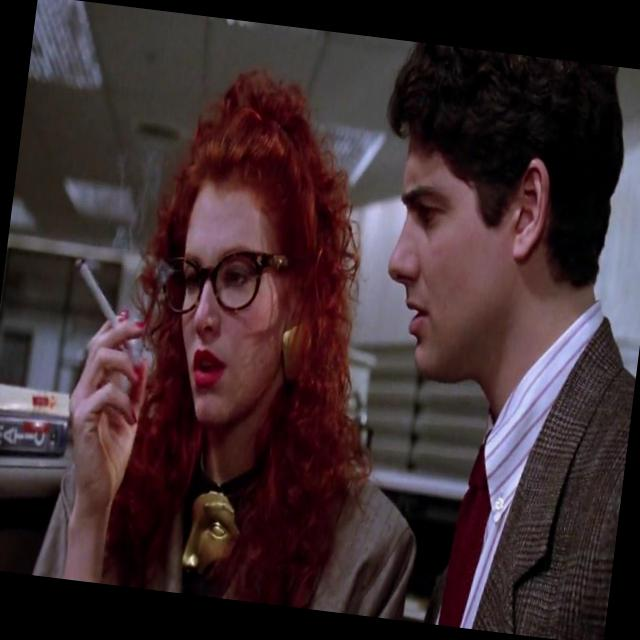cigarette: (51, 248, 148, 359)
